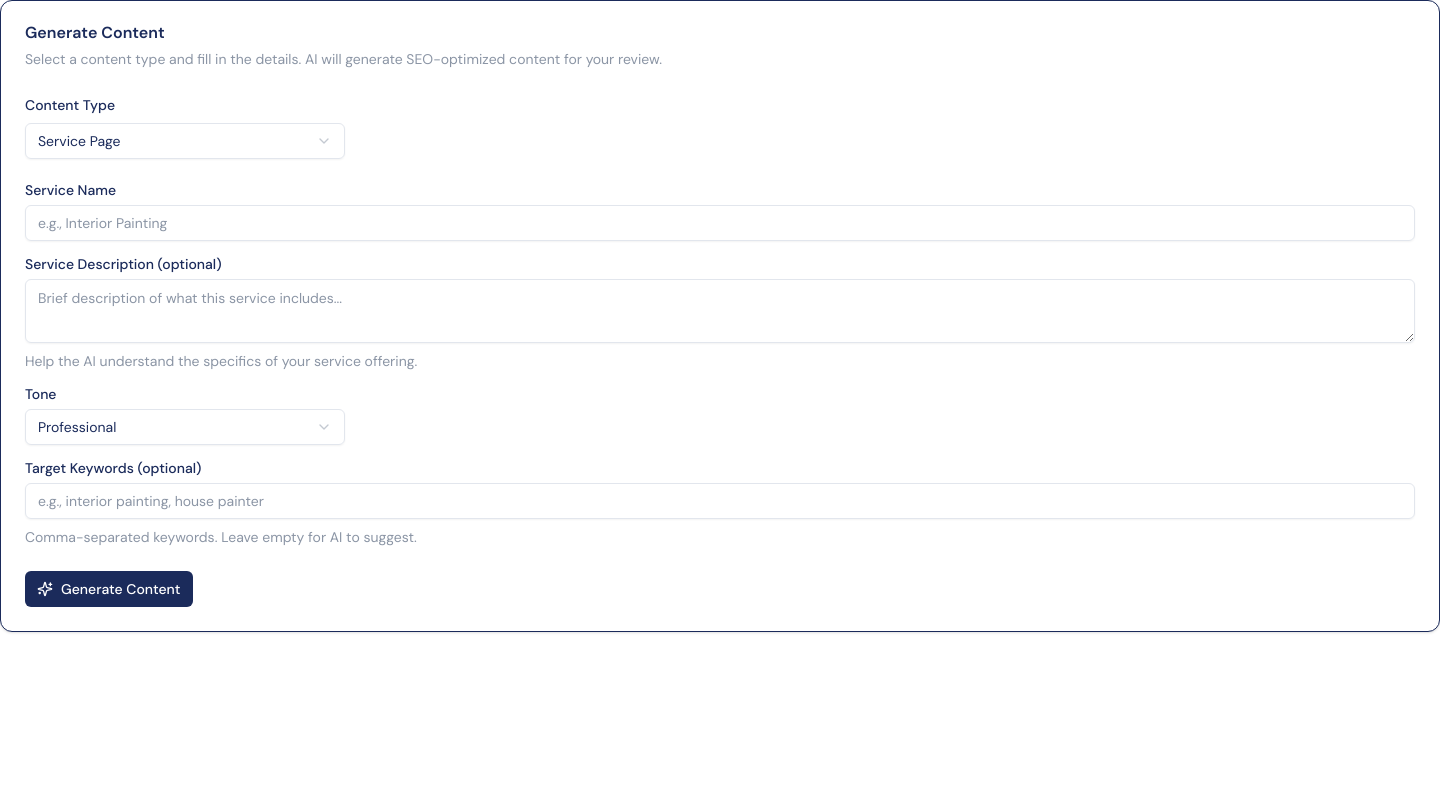
Test: ContentGenerateForm › shows loading state during generation
This screenshot has width=1440, height=810.
Type "Interior Painting" into the field with placeholder "e.g., Interior Painting" at (720, 223), box [25,205,1415,241]
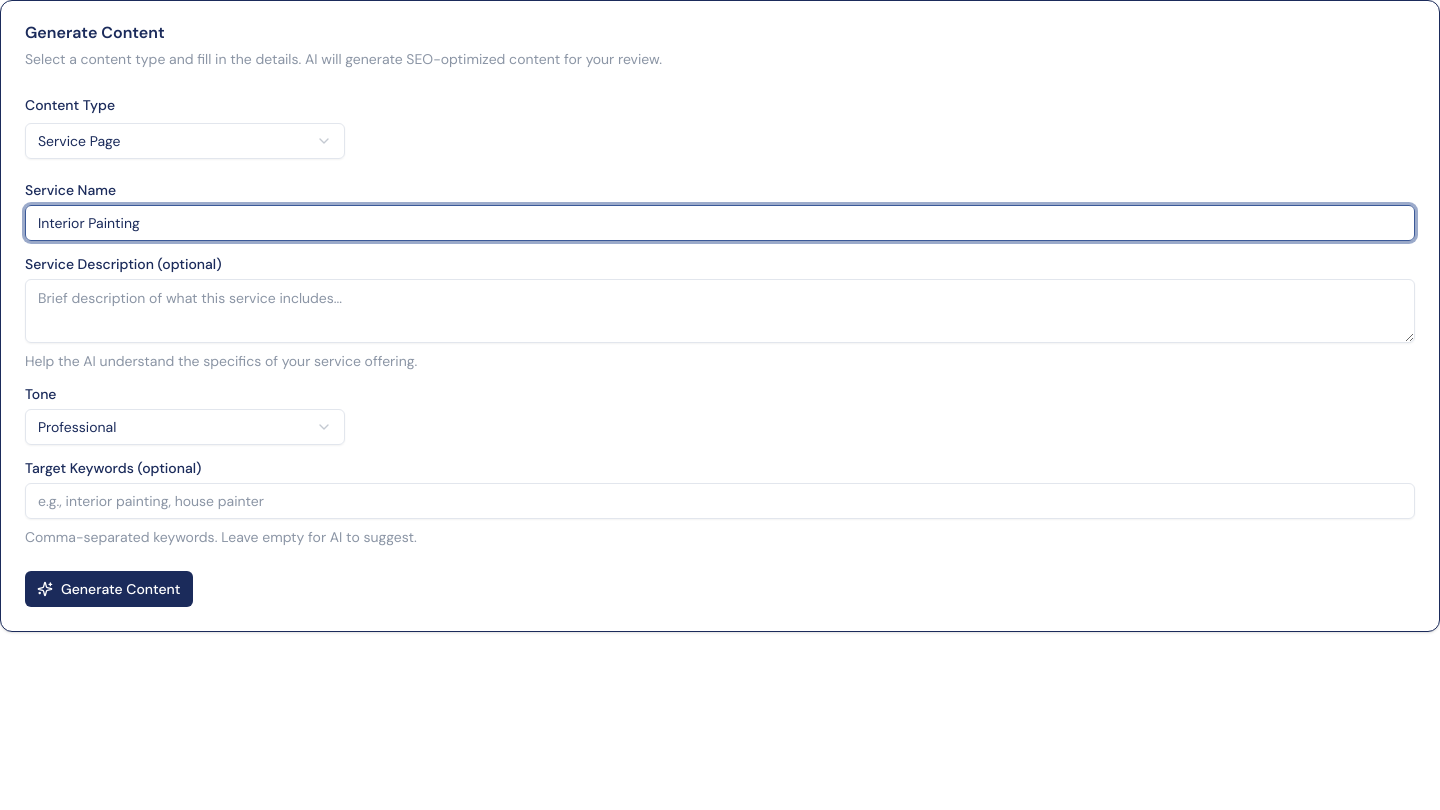
Click the button "Generate Content" at (109, 589), box [25,571,192,607]
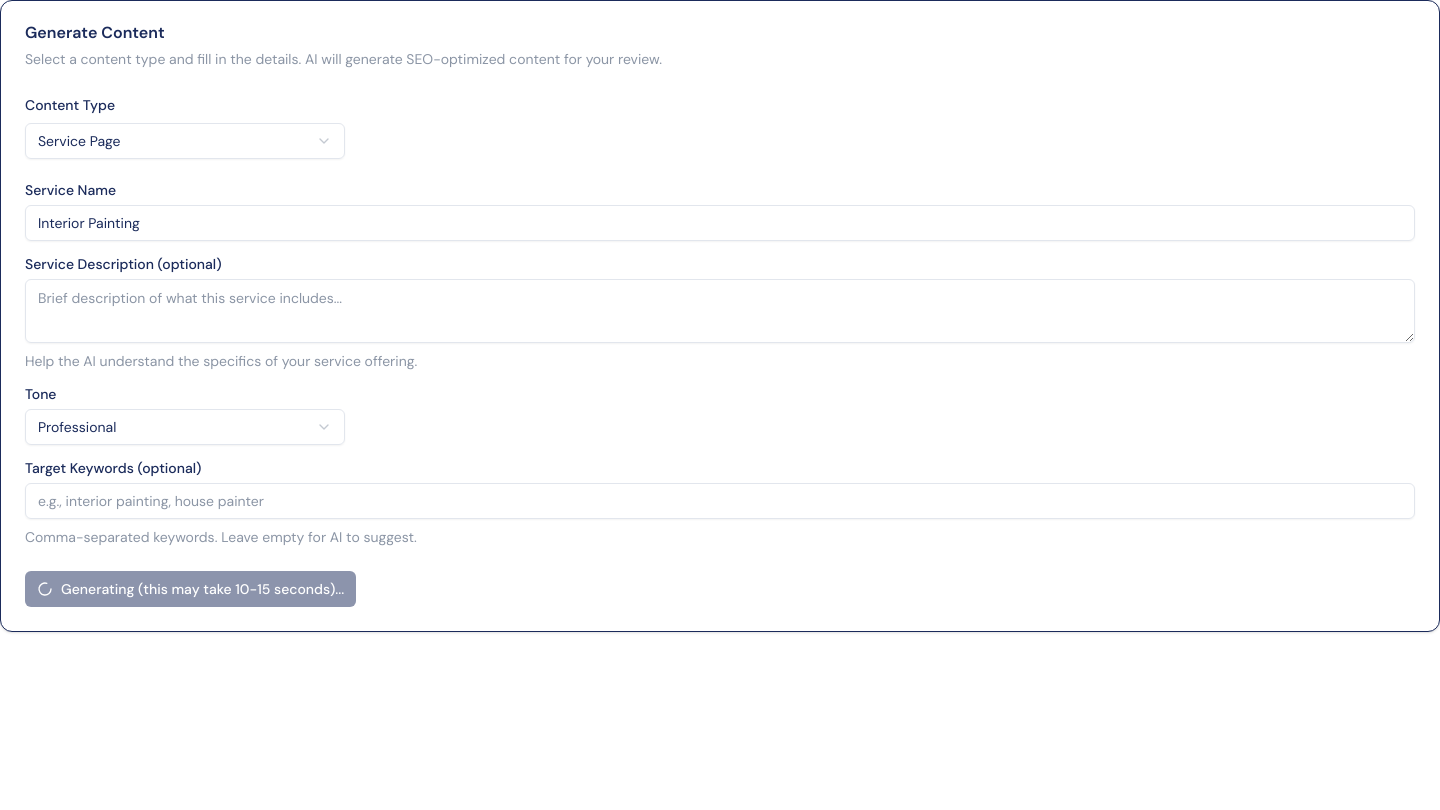
expect the button "Generating (this may take 10-15 seconds)..." is shown: met, box [25,571,356,607]
